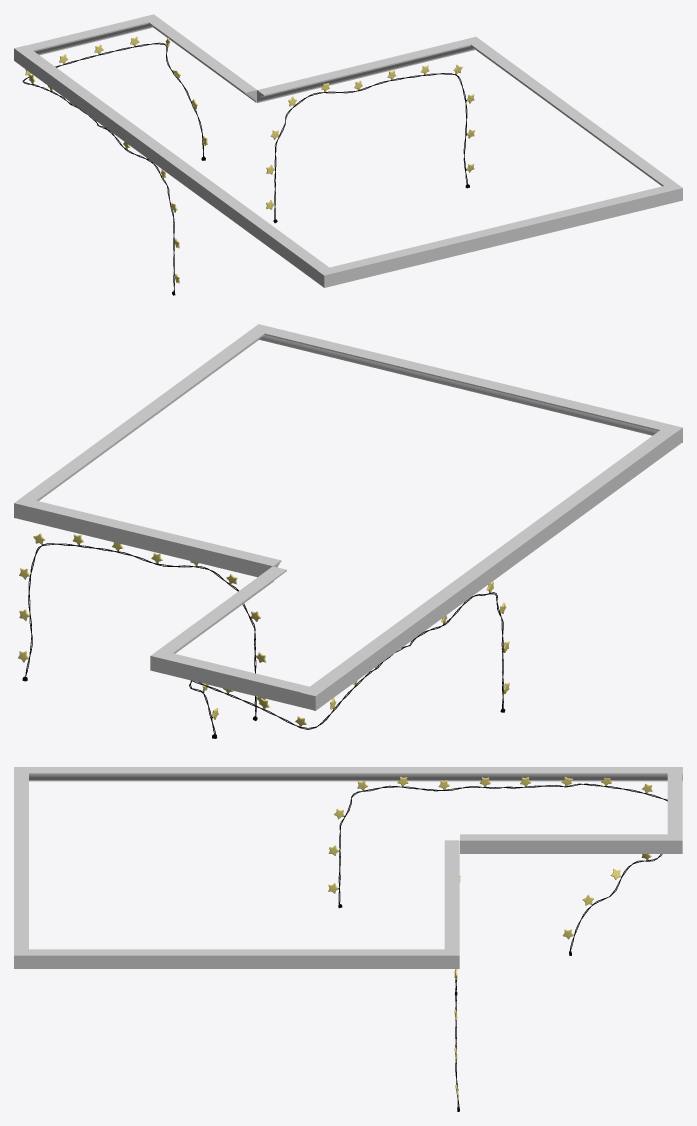
Rendered from lights2.fbx.
The picture shows the model from 3 angles, top to bottom: view 1: azimuth 30°, elevation 25°; view 2: azimuth 150°, elevation 25°; view 3: azimuth 270°, elevation 25°; orthographic projection. The views are drawn at different scales.
Parts seen in each view (by area): view 1: Cube.003, Cube.008, Cube.006, Cube.007, Cube.005, String.002, Cube.009, String; view 2: Cube.003, Cube.008, Cube.006, Cube.007, Cube.005, Cube.009, String, String.002; view 3: Cube.003, Cube.007, Cube.009, Cube.008, String.002, Cube.006, Cube.005.
Part boxes in pixels (left/top/right/bottom): Cube.003: left=14, top=45, right=330, bottom=286; Cube.008: left=317, top=186, right=682, bottom=287; Cube.006: left=257, top=37, right=482, bottom=102; Cube.007: left=471, top=41, right=682, bottom=200; Cube.005: left=26, top=14, right=160, bottom=55; String.002: left=22, top=36, right=207, bottom=292; Cube.009: left=149, top=15, right=256, bottom=102; String: left=266, top=65, right=475, bottom=220; Cube.003: left=301, top=430, right=681, bottom=710; Cube.008: left=259, top=327, right=682, bottom=442; Cube.006: left=14, top=497, right=281, bottom=577; Cube.007: left=14, top=324, right=272, bottom=517; Cube.005: left=151, top=650, right=315, bottom=710; Cube.009: left=150, top=566, right=286, bottom=670; String: left=18, top=533, right=266, bottom=717; String.002: left=189, top=581, right=509, bottom=734; Cube.003: left=29, top=767, right=682, bottom=781; Cube.007: left=14, top=949, right=459, bottom=968; Cube.009: left=460, top=834, right=682, bottom=853; Cube.008: left=14, top=767, right=28, bottom=949; String.002: left=328, top=776, right=667, bottom=951; Cube.006: left=444, top=840, right=459, bottom=955; Cube.005: left=667, top=773, right=682, bottom=840.
Size of the model in its own units: 541 by 214 by 810.
